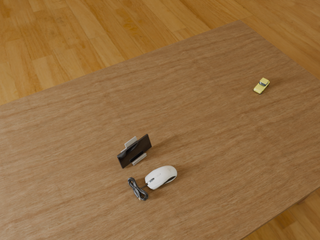mouse: (145, 166, 177, 189)
phone: (117, 134, 152, 169)
toy_car: (253, 78, 269, 94)
